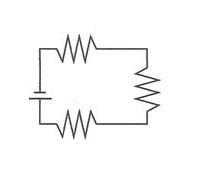resistor: (126, 53, 169, 122), (45, 104, 102, 142), (49, 29, 102, 66)
